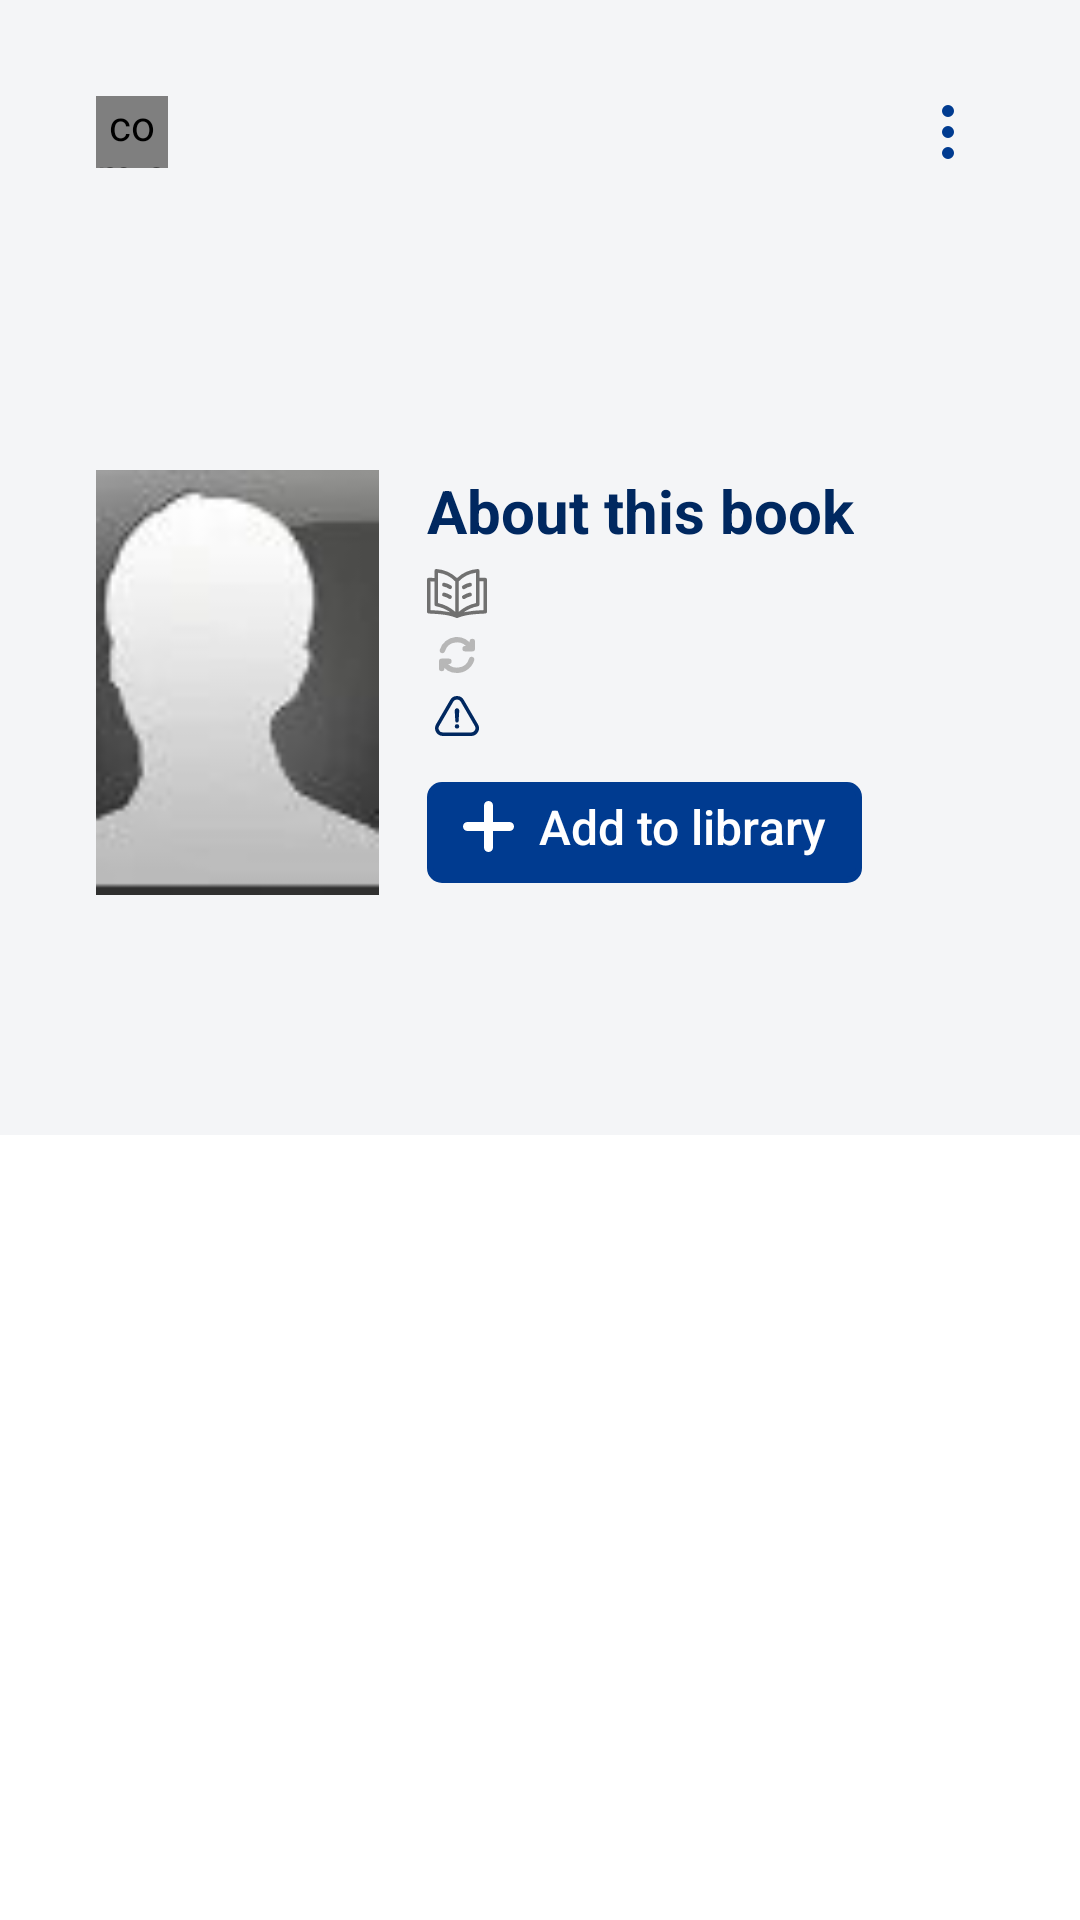

Icon click points for this 1080px x 1920px phone screenshot, format point (x, y):
Chapters not synchronized: point (457, 716)
Story options: point (948, 132)
